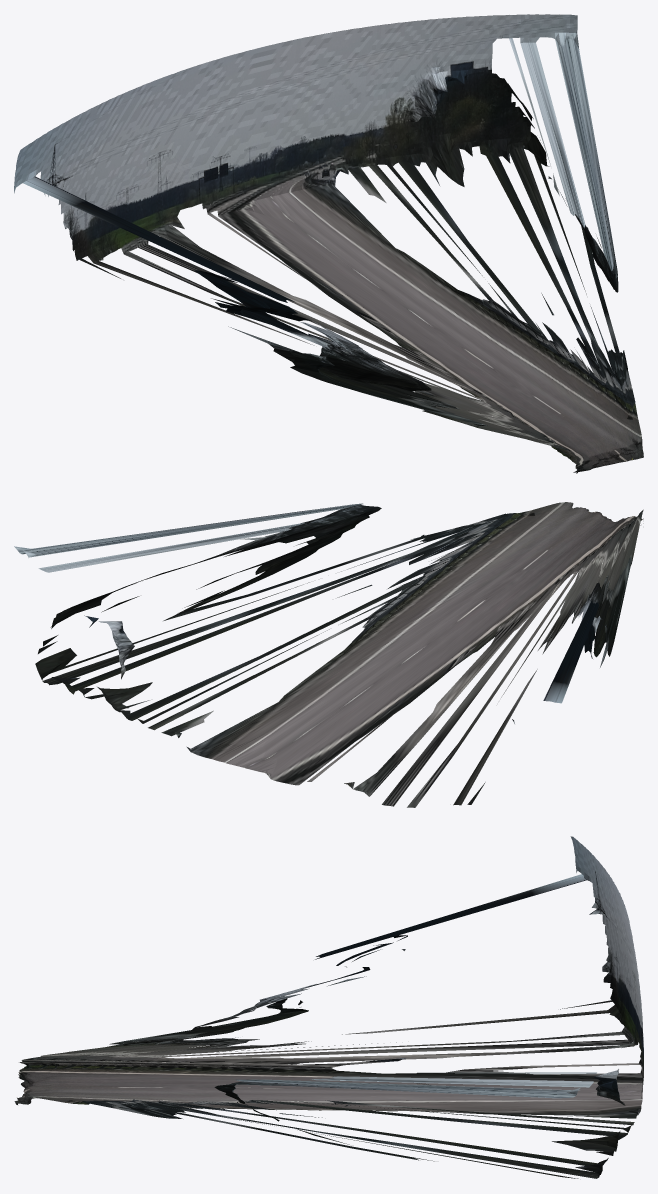
The picture shows the model from 3 angles, top to bottom: view 1: azimuth 30°, elevation 25°; view 2: azimuth 150°, elevation 25°; view 3: azimuth 270°, elevation 25°; orthographic projection. The views are drawn at different scales.
Parts seen in each view (by area): view 1: defaultobject; view 2: defaultobject; view 3: defaultobject.
Part boxes in pixels (x1,y1,x2,y2): defaultobject: [14, 14, 643, 473]; defaultobject: [14, 502, 643, 807]; defaultobject: [14, 836, 643, 1178].
Bounding box in the file's own units: 40.77 × 11.82 × 44.72.
1 material, 1 textured.
